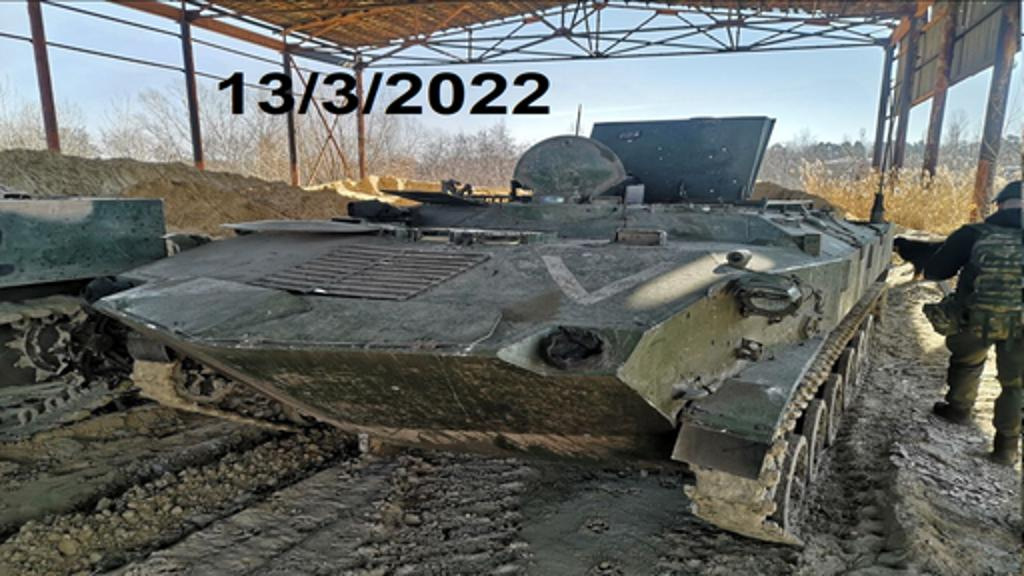APC-IFV: (100, 112, 910, 554)
